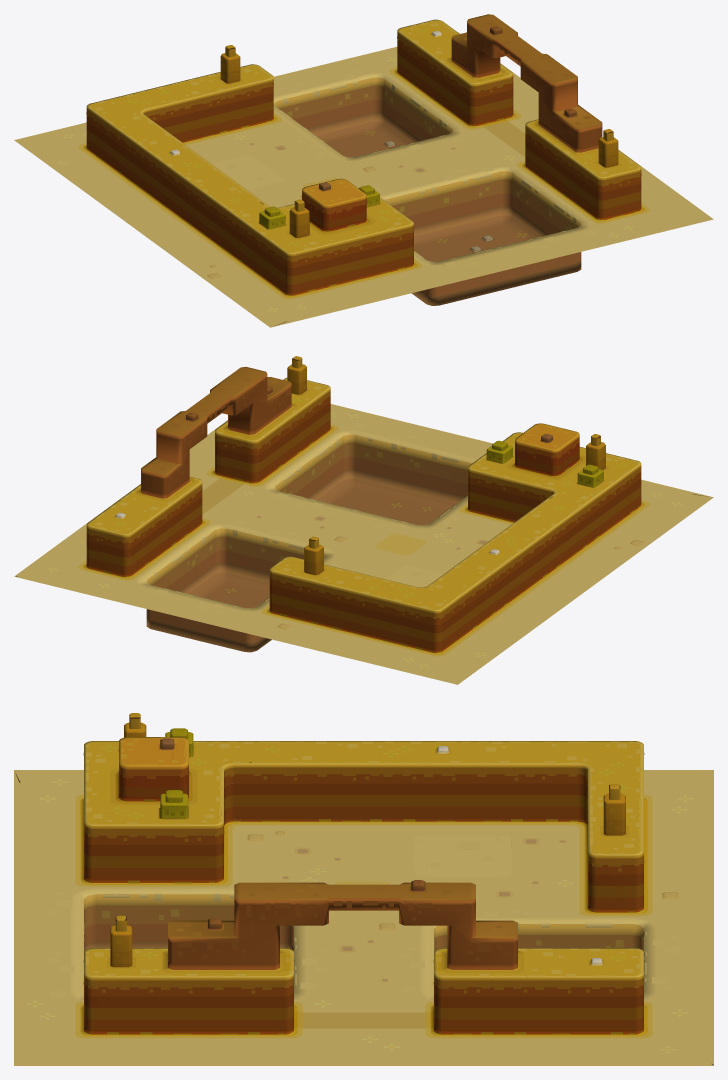
File: C_mountain1_08.fbx
The picture shows the model from 3 angles, top to bottom: view 1: azimuth 30°, elevation 25°; view 2: azimuth 150°, elevation 25°; view 3: azimuth 270°, elevation 25°; orthographic projection. The views are drawn at different scales.
Parts seen in each view (by area): view 1: C_mountain1_08.002; view 2: C_mountain1_08.002; view 3: C_mountain1_08.002.
Part boxes in pixels (x1=…): C_mountain1_08.002: x1=14, y1=14, x2=713, y2=327; C_mountain1_08.002: x1=14, y1=356, x2=713, y2=684; C_mountain1_08.002: x1=14, y1=713, x2=713, y2=1065.
Bounding box in the file's own units: 50 × 15.55 × 50.
1 material, 1 textured.
